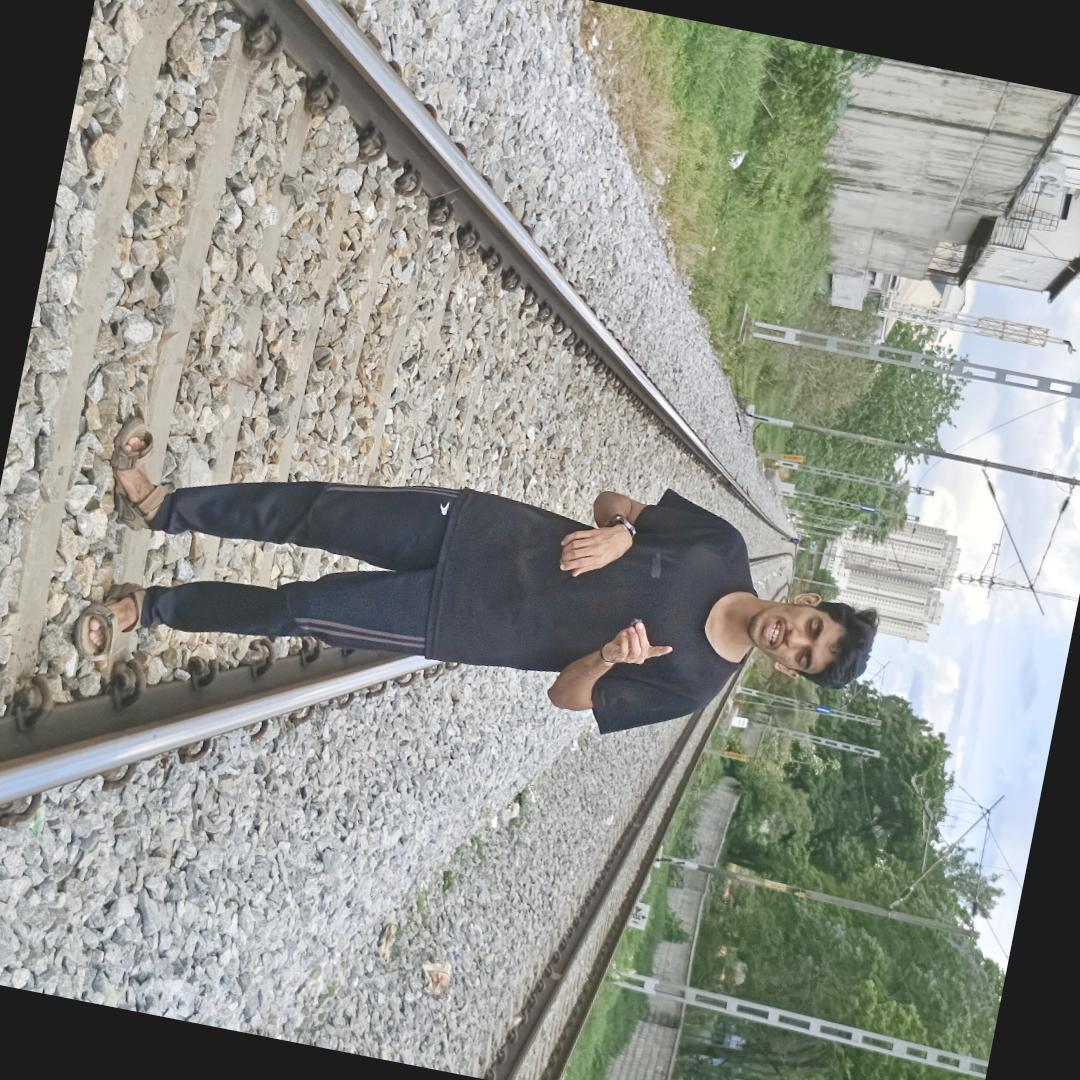standing: (33, 364, 933, 830)
